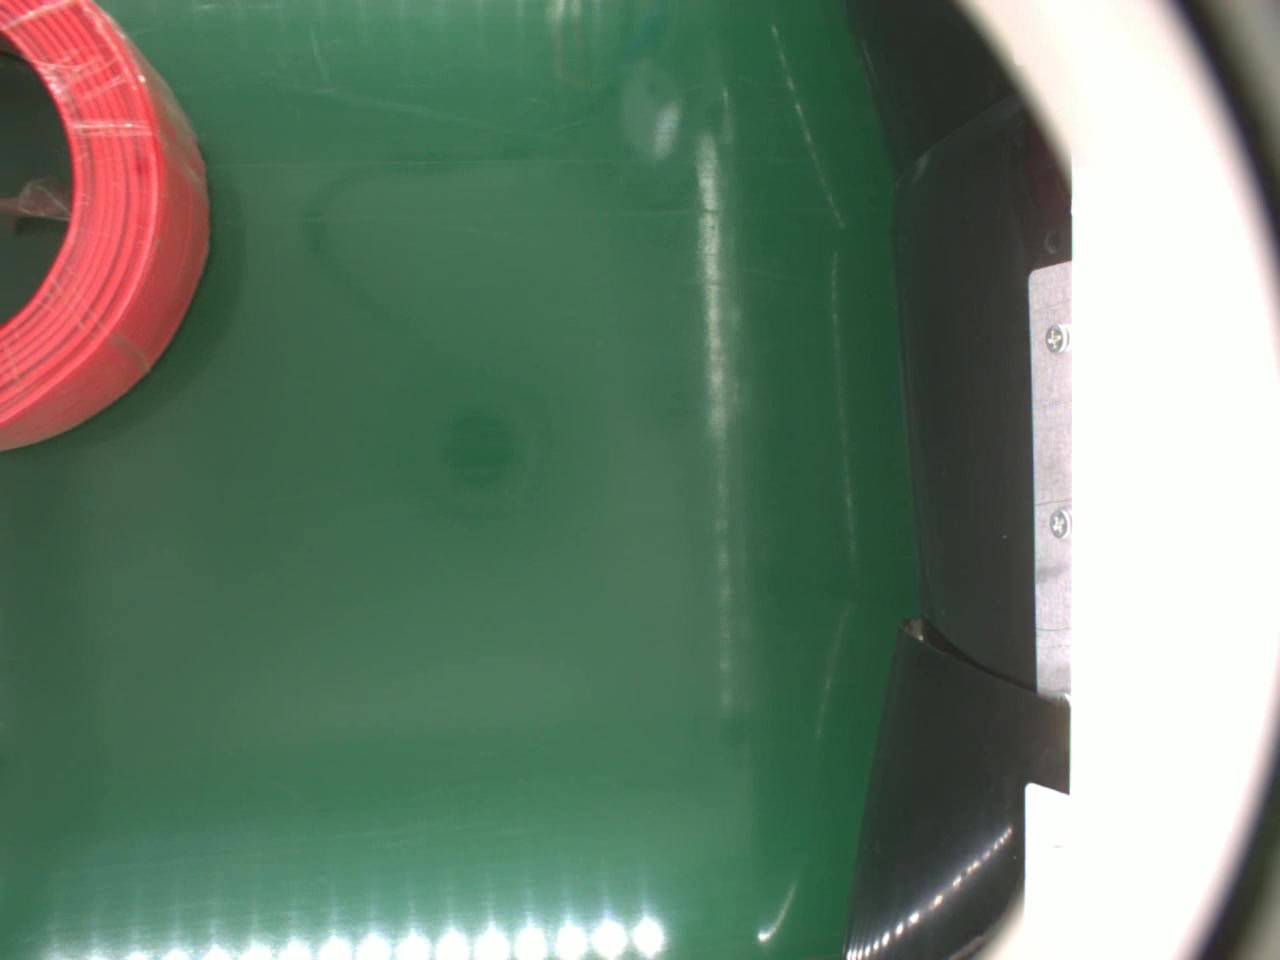red: (0, 0, 212, 455)
